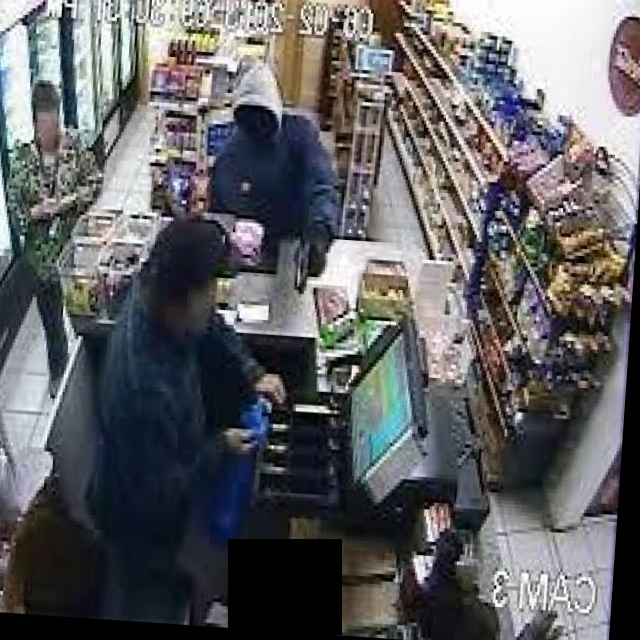gun: (282, 228, 327, 292)
